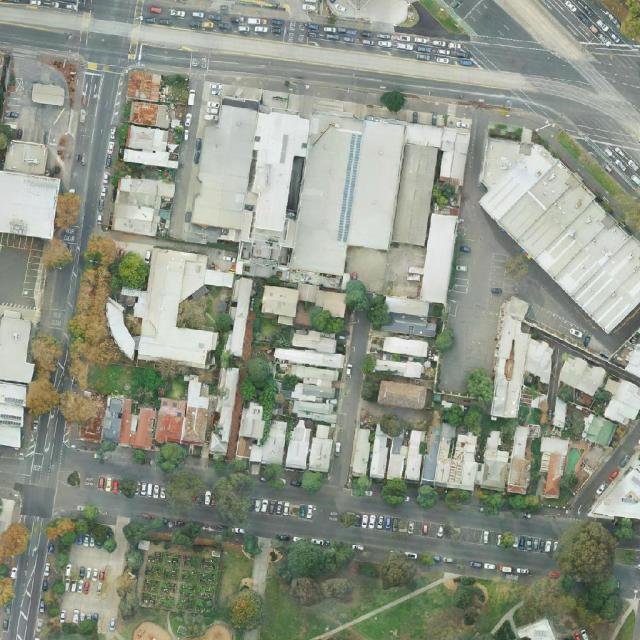building: (451, 112, 640, 336), (128, 246, 229, 370), (291, 115, 366, 277), (349, 413, 484, 491), (240, 109, 311, 236), (190, 102, 258, 232), (99, 375, 213, 452), (491, 296, 558, 422), (267, 326, 346, 425), (234, 401, 339, 475), (349, 120, 406, 250), (122, 70, 184, 169), (392, 143, 438, 247), (0, 310, 34, 448), (110, 173, 175, 239), (420, 213, 459, 305), (480, 425, 532, 493), (378, 293, 447, 341), (207, 365, 241, 456), (98, 294, 141, 363), (556, 351, 610, 398), (531, 434, 569, 500), (224, 276, 254, 357), (293, 280, 351, 319), (436, 127, 470, 186), (377, 380, 433, 411), (260, 285, 301, 320), (578, 412, 617, 448), (382, 335, 430, 359), (373, 359, 424, 379), (30, 82, 67, 108), (405, 122, 442, 147), (516, 619, 555, 640), (203, 269, 234, 287), (552, 397, 567, 428)
greenland: (125, 538, 254, 640), (65, 232, 155, 353), (554, 120, 640, 238), (41, 354, 124, 451), (553, 518, 624, 626), (439, 549, 524, 630), (122, 514, 262, 561), (514, 569, 606, 640), (237, 312, 283, 430), (276, 539, 355, 607), (438, 359, 503, 436), (55, 321, 125, 387), (43, 503, 118, 560), (336, 275, 400, 334), (26, 332, 62, 417), (156, 463, 211, 516), (178, 284, 231, 335), (124, 361, 189, 402), (0, 524, 30, 606), (214, 474, 252, 525), (34, 233, 76, 275), (303, 303, 348, 341), (226, 589, 264, 630), (151, 437, 189, 476), (483, 492, 542, 516), (41, 573, 67, 619), (381, 557, 417, 588), (55, 191, 82, 232), (213, 456, 254, 480), (289, 467, 324, 495), (380, 476, 409, 509), (258, 463, 287, 490), (0, 120, 15, 161), (416, 485, 439, 509), (384, 90, 405, 113), (352, 476, 373, 497)
metalled_road: (242, 466, 572, 584), (431, 196, 532, 400), (53, 439, 180, 530), (47, 64, 121, 215), (565, 416, 640, 522), (168, 74, 215, 242), (328, 312, 372, 487), (36, 256, 82, 347), (392, 1, 457, 63), (462, 106, 490, 193), (0, 248, 34, 305), (70, 194, 99, 255), (249, 536, 271, 597), (177, 503, 220, 526), (612, 564, 640, 598), (84, 60, 124, 77), (243, 629, 260, 640)
